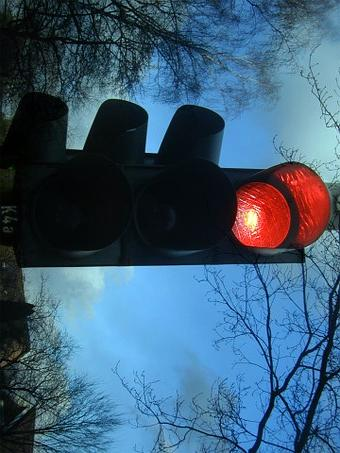trafic: (35, 163, 330, 262)
